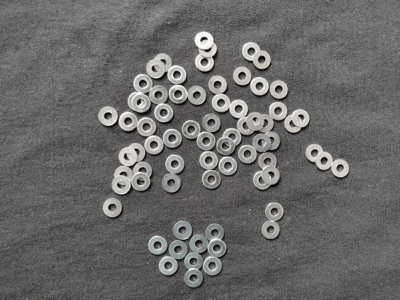circle: (133, 74, 153, 94), (219, 156, 239, 176), (103, 199, 123, 218), (119, 112, 139, 131), (149, 236, 168, 256), (159, 257, 179, 276), (169, 241, 189, 260), (162, 174, 182, 193), (133, 162, 153, 181), (137, 118, 157, 137), (163, 129, 182, 149), (197, 132, 217, 151), (253, 171, 272, 191), (146, 59, 165, 79), (99, 107, 118, 126), (112, 176, 131, 195), (114, 167, 133, 186), (119, 148, 138, 167), (174, 221, 193, 240), (206, 224, 225, 243), (204, 257, 223, 276), (166, 155, 185, 174), (145, 136, 164, 155), (132, 173, 151, 192), (209, 76, 228, 95), (132, 94, 151, 113), (203, 171, 222, 190), (217, 137, 236, 156), (212, 94, 231, 113), (230, 100, 249, 119), (256, 114, 275, 133), (239, 145, 258, 164), (266, 203, 285, 222), (253, 134, 272, 153), (262, 132, 281, 151), (270, 81, 289, 100), (251, 77, 270, 96), (253, 51, 272, 70), (188, 86, 207, 105), (155, 104, 174, 123), (149, 86, 168, 105), (168, 66, 187, 85), (190, 235, 209, 254), (184, 253, 204, 271), (128, 93, 148, 111), (243, 42, 261, 62), (259, 152, 277, 172), (127, 144, 146, 162), (185, 270, 204, 288), (208, 240, 227, 258), (196, 53, 214, 72), (224, 128, 242, 147), (203, 114, 221, 133), (247, 112, 265, 131), (262, 221, 281, 239), (270, 102, 288, 121), (234, 67, 252, 86), (169, 86, 188, 104), (292, 109, 310, 128), (306, 145, 324, 164), (332, 160, 350, 179), (262, 167, 280, 186), (196, 32, 214, 50), (183, 121, 201, 139), (200, 152, 218, 170), (238, 117, 256, 135), (154, 54, 172, 72), (199, 40, 217, 58), (285, 115, 303, 133), (316, 152, 333, 171)
